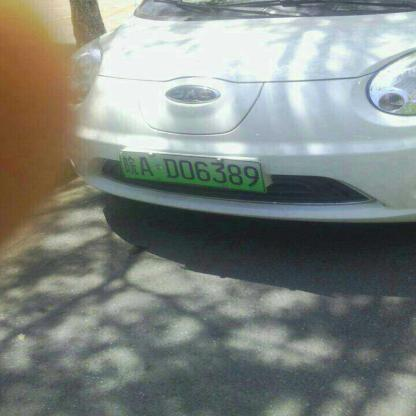lp: (119, 152, 265, 192)
